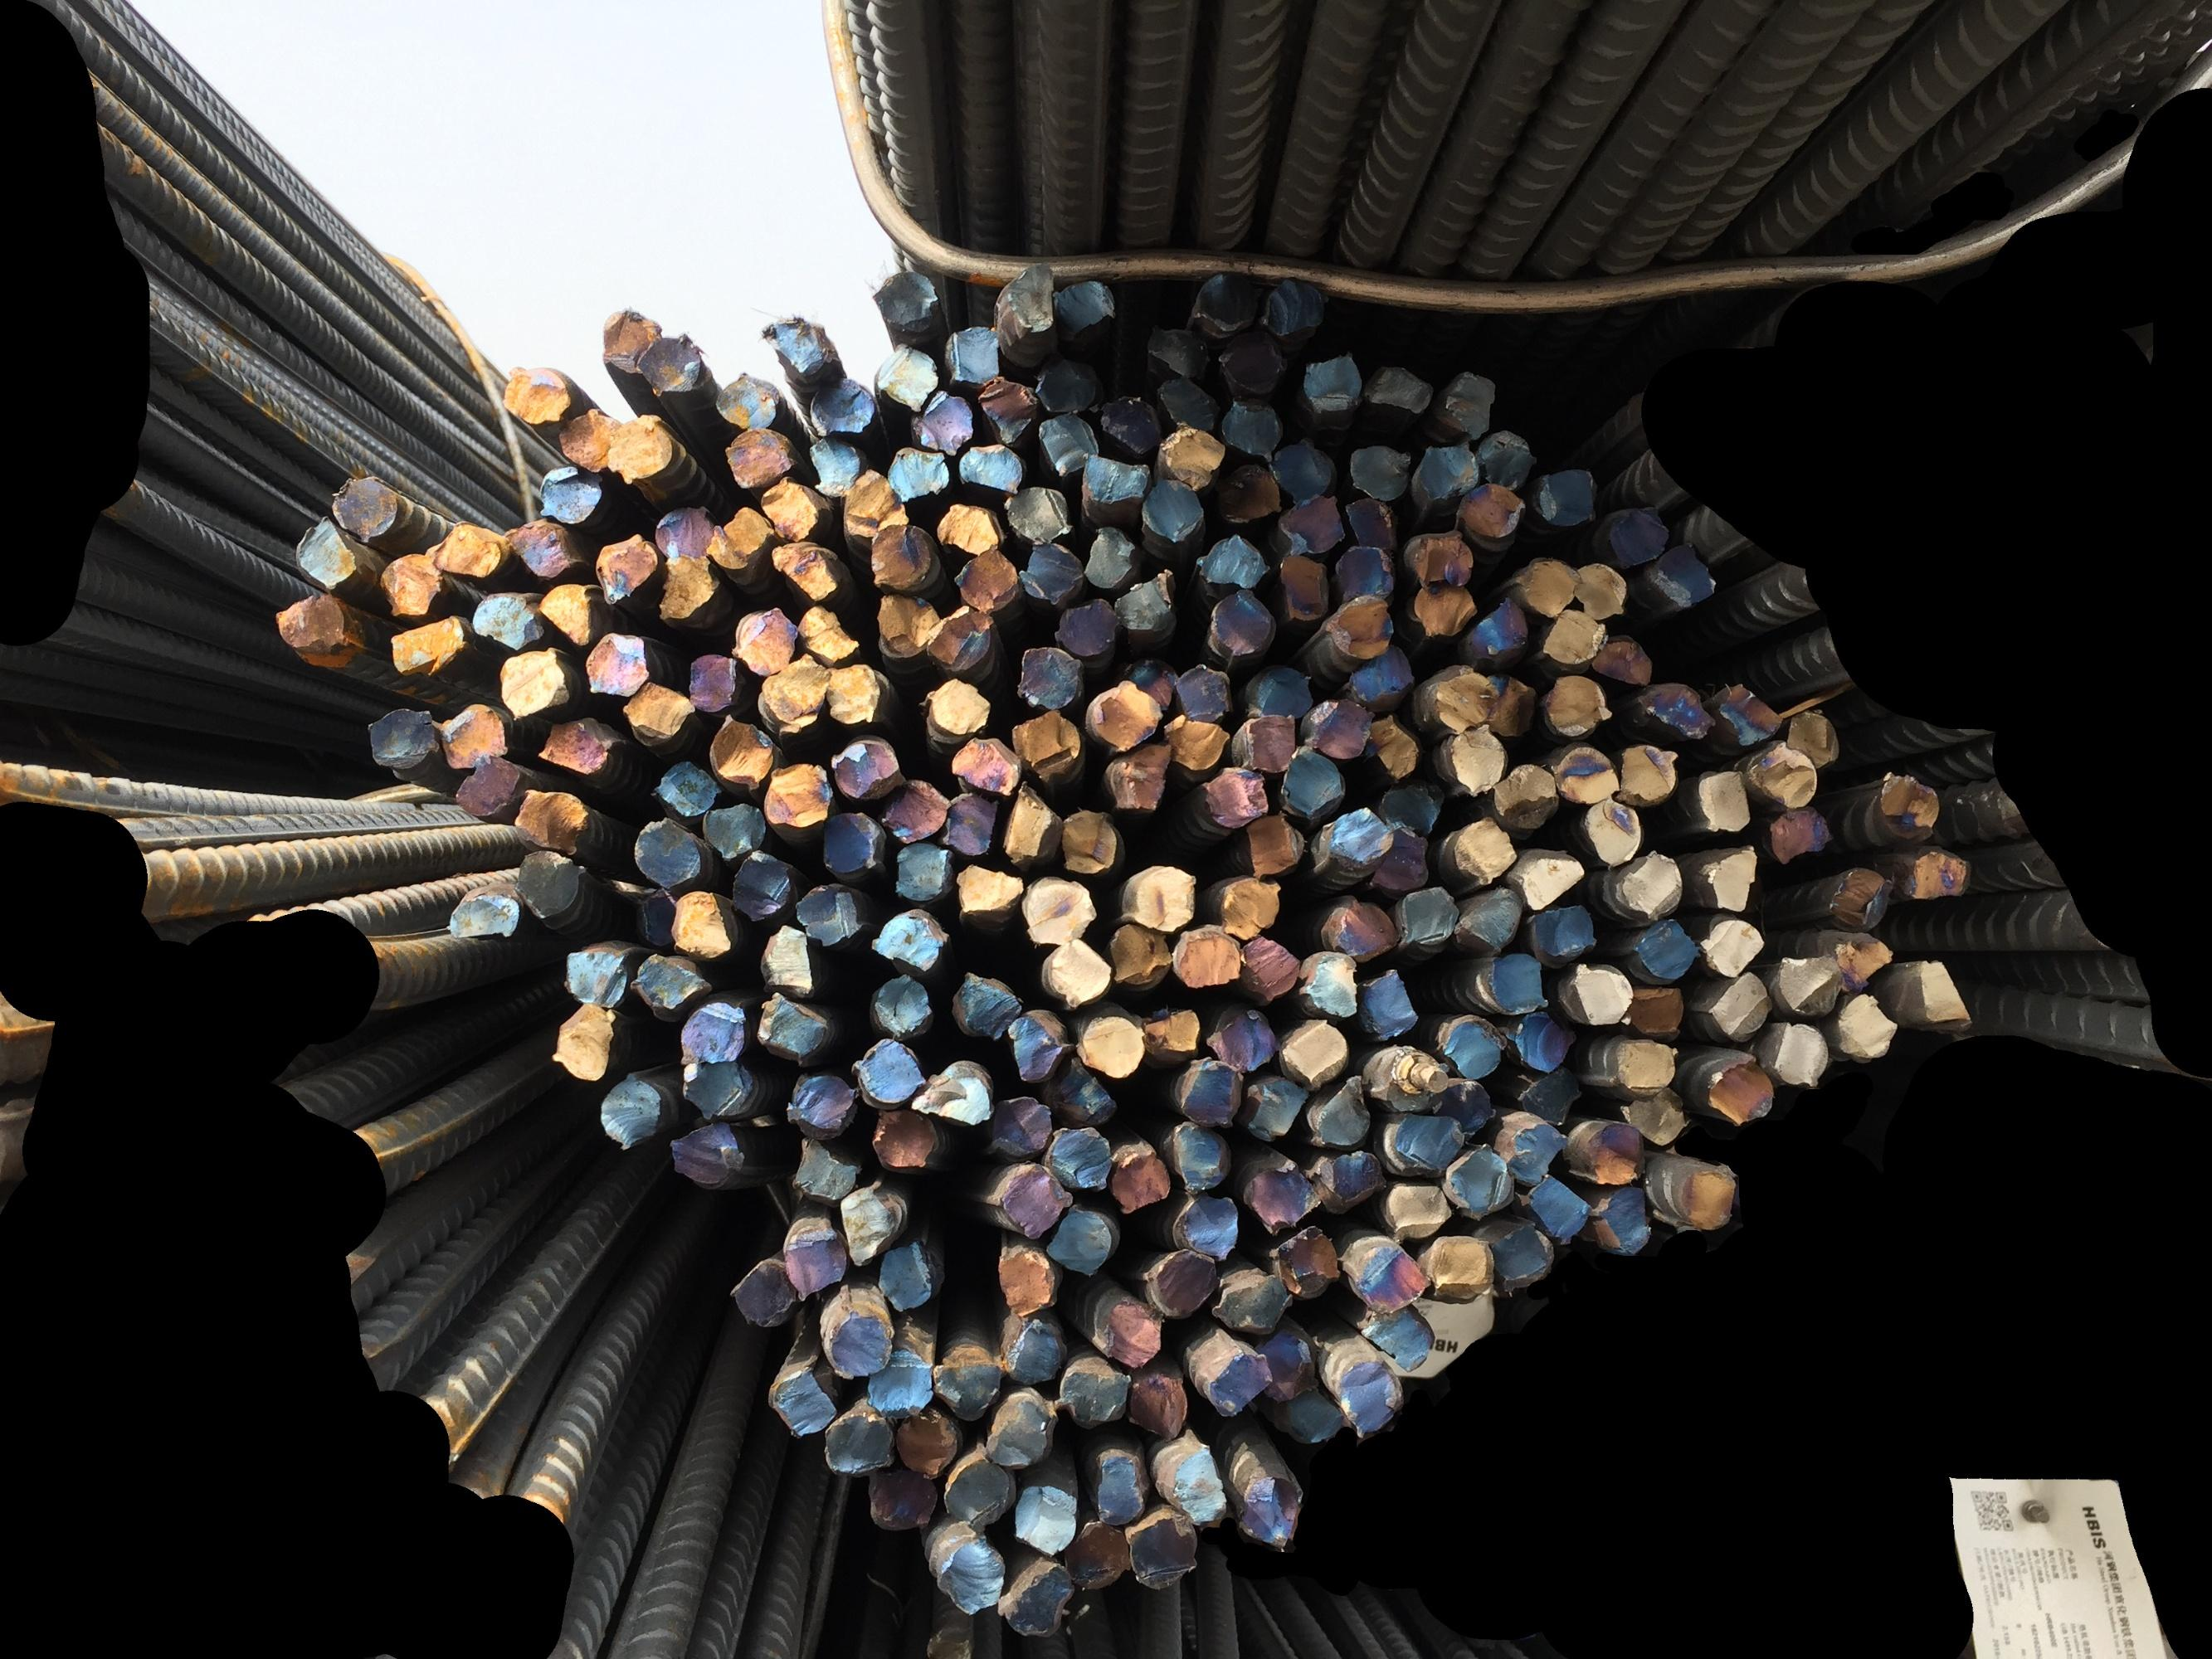bar: (270, 591, 361, 666), (1328, 1345, 1401, 1436), (533, 714, 622, 788), (1234, 1466, 1306, 1556), (990, 1161, 1070, 1239), (819, 1293, 891, 1380), (1241, 1154, 1320, 1232), (758, 653, 830, 739), (291, 516, 370, 592), (1008, 709, 1088, 784), (910, 1054, 994, 1126), (755, 992, 831, 1068), (1042, 1054, 1119, 1131), (549, 1002, 622, 1082), (1128, 1509, 1199, 1591), (985, 1387, 1056, 1469), (1344, 1243, 1426, 1314), (840, 1180, 906, 1267), (363, 704, 439, 779), (1865, 770, 1940, 847), (666, 1121, 746, 1192), (1002, 1560, 1074, 1640), (1137, 1246, 1217, 1317), (495, 647, 570, 721), (943, 1452, 1016, 1528), (1515, 1173, 1591, 1246), (708, 713, 779, 791), (934, 1530, 1002, 1612), (1487, 1216, 1555, 1298), (1449, 1141, 1517, 1223), (1088, 676, 1161, 751), (514, 847, 586, 924), (1121, 857, 1198, 929), (1203, 1000, 1279, 1072), (1903, 958, 1975, 1035), (1211, 1263, 1290, 1333), (328, 474, 408, 542), (767, 1359, 835, 1439), (387, 613, 469, 680), (1632, 678, 1715, 742), (1161, 1441, 1224, 1527), (1487, 758, 1560, 831), (931, 1347, 1002, 1422), (514, 786, 591, 856), (621, 681, 697, 751), (1168, 1058, 1245, 1127), (1269, 1222, 1339, 1298), (779, 1070, 858, 1138), (870, 904, 950, 971), (628, 950, 709, 1014), (1089, 1295, 1161, 1368), (1046, 1202, 1117, 1276), (1072, 1007, 1145, 1079), (1058, 1358, 1126, 1434), (1388, 1108, 1464, 1176), (1609, 850, 1686, 918), (1705, 1047, 1773, 1124), (594, 528, 659, 608), (424, 521, 511, 580), (1042, 938, 1114, 1009), (438, 695, 507, 769), (631, 816, 704, 885), (1021, 875, 1095, 945), (1208, 587, 1278, 660), (1215, 328, 1288, 397), (657, 554, 725, 629), (865, 1340, 933, 1415), (1105, 739, 1173, 814), (1424, 1232, 1492, 1307), (1666, 1159, 1734, 1234), (762, 312, 838, 378), (708, 504, 772, 582), (1504, 843, 1583, 908), (600, 1072, 662, 1152), (1255, 1321, 1318, 1401), (1086, 1443, 1147, 1525), (927, 603, 997, 674), (870, 523, 941, 592), (1156, 420, 1225, 491), (1647, 542, 1719, 612), (727, 1255, 795, 1328), (1203, 1344, 1271, 1417), (953, 967, 1021, 1040), (1210, 873, 1283, 941), (1327, 894, 1400, 962), (1279, 744, 1347, 817), (608, 413, 675, 488), (851, 1037, 926, 1103), (1004, 784, 1063, 868), (1600, 1032, 1677, 1096), (1820, 868, 1896, 932), (680, 1060, 758, 1122), (502, 518, 582, 579), (1278, 1014, 1347, 1084), (1449, 814, 1518, 884), (824, 1408, 896, 1476), (1065, 1520, 1133, 1591), (1161, 1121, 1232, 1188), (1363, 824, 1435, 892), (1440, 725, 1508, 796), (1006, 1004, 1065, 1086), (729, 850, 795, 924), (866, 1466, 940, 1532), (1558, 960, 1632, 1026), (1832, 992, 1898, 1065), (783, 1223, 847, 1298), (1014, 1478, 1079, 1553), (995, 1241, 1058, 1317), (1504, 1110, 1567, 1187), (1616, 735, 1679, 812), (1307, 1147, 1386, 1208), (1436, 362, 1497, 441), (795, 878, 865, 946), (1241, 812, 1311, 880), (1705, 969, 1773, 1039), (758, 476, 830, 542), (788, 1136, 859, 1202), (873, 265, 945, 331), (1014, 643, 1086, 709), (1168, 1192, 1239, 1258), (1576, 1121, 1647, 1187), (1747, 741, 1818, 807), (1032, 350, 1105, 415), (1269, 1384, 1342, 1448), (720, 425, 795, 488), (1621, 920, 1696, 983), (1239, 932, 1300, 1009), (1313, 1073, 1374, 1150), (758, 922, 818, 1000), (873, 587, 941, 655), (952, 544, 1020, 612), (842, 467, 910, 535), (1382, 1176, 1450, 1244), (1239, 1073, 1307, 1141), (377, 552, 443, 622), (823, 659, 889, 728), (1114, 566, 1180, 636), (1173, 925, 1243, 992), (1459, 882, 1525, 951), (894, 1406, 959, 1478), (669, 887, 732, 960), (1126, 1368, 1189, 1441), (772, 538, 845, 601), (1621, 1086, 1694, 1148), (1062, 805, 1123, 880), (999, 263, 1055, 345), (1358, 1309, 1435, 1368), (765, 762, 831, 829), (1046, 1124, 1112, 1192), (906, 389, 973, 457), (1379, 1047, 1445, 1115), (873, 340, 938, 410), (1002, 483, 1072, 547), (1579, 795, 1644, 864), (1771, 953, 1841, 1018), (675, 999, 746, 1061), (650, 758, 722, 821), (1396, 882, 1459, 953), (1302, 697, 1374, 760), (471, 589, 544, 650), (830, 737, 903, 798), (1590, 1187, 1651, 1260), (1110, 1138, 1170, 1213), (1511, 1068, 1586, 1127), (999, 1316, 1065, 1382), (1018, 540, 1084, 606), (453, 753, 521, 817), (560, 945, 628, 1009), (582, 631, 650, 695), (730, 606, 795, 674), (868, 972, 933, 1040), (882, 774, 947, 842), (1095, 392, 1163, 457), (1142, 479, 1206, 547), (1482, 950, 1550, 1014), (1191, 267, 1259, 331), (1436, 1018, 1506, 1080), (1455, 479, 1525, 542), (1506, 1011, 1578, 1072), (1478, 669, 1539, 741), (948, 734, 1021, 793), (807, 376, 880, 436), (1299, 946, 1358, 1019), (1367, 711, 1426, 784), (1142, 324, 1215, 383), (1342, 645, 1417, 702), (537, 582, 601, 648), (1429, 662, 1494, 728), (1109, 924, 1171, 992), (1161, 713, 1229, 775), (1541, 673, 1609, 735), (1551, 741, 1619, 803), (448, 884, 518, 945), (537, 464, 607, 525), (502, 364, 572, 425), (600, 307, 661, 376), (868, 1108, 938, 1169), (922, 674, 992, 735), (1051, 596, 1121, 657), (1321, 803, 1391, 864), (1259, 275, 1328, 336), (1211, 462, 1281, 523), (1360, 967, 1419, 1039), (980, 375, 1037, 448), (880, 1237, 936, 1312), (1196, 535, 1271, 591), (1238, 662, 1313, 718), (1034, 411, 1098, 476), (1203, 765, 1267, 829), (640, 331, 702, 397), (821, 810, 884, 877), (1534, 465, 1600, 528), (795, 601, 863, 662), (1278, 493, 1346, 554), (1698, 915, 1766, 976), (1363, 361, 1433, 420), (1407, 579, 1476, 638), (1900, 847, 1970, 906), (1698, 843, 1757, 913), (934, 498, 1008, 554), (992, 1093, 1055, 1157), (1330, 594, 1394, 657), (1415, 439, 1480, 502), (1717, 681, 1780, 746), (713, 368, 779, 429), (1053, 279, 1119, 340), (1468, 596, 1529, 662), (1689, 767, 1750, 833), (1276, 432, 1335, 500), (1405, 528, 1473, 587), (1539, 606, 1607, 666), (1762, 805, 1830, 864), (1823, 932, 1893, 990), (1605, 505, 1668, 568), (1513, 554, 1576, 617), (1081, 525, 1142, 589), (1236, 709, 1297, 774), (1302, 349, 1363, 413), (1530, 903, 1597, 962), (953, 863, 1021, 920), (1274, 552, 1330, 622), (1773, 1019, 1829, 1089), (702, 800, 765, 861), (945, 788, 997, 861), (1374, 779, 1447, 831), (1347, 439, 1410, 500), (1175, 657, 1232, 723), (1154, 375, 1220, 432), (1081, 451, 1149, 507), (1142, 1000, 1203, 1061), (1222, 399, 1283, 460), (891, 840, 953, 899), (885, 444, 950, 502), (1333, 544, 1398, 601), (1588, 629, 1652, 687), (1572, 556, 1628, 622), (957, 441, 1027, 493), (654, 502, 715, 561), (943, 321, 1001, 383), (1117, 653, 1177, 713), (1440, 1075, 1499, 1134), (1785, 709, 1844, 769), (556, 406, 610, 471), (1626, 985, 1689, 1039), (689, 652, 741, 714), (809, 434, 865, 491), (1347, 495, 1401, 554), (1476, 429, 1534, 483), (631, 889, 678, 950)
